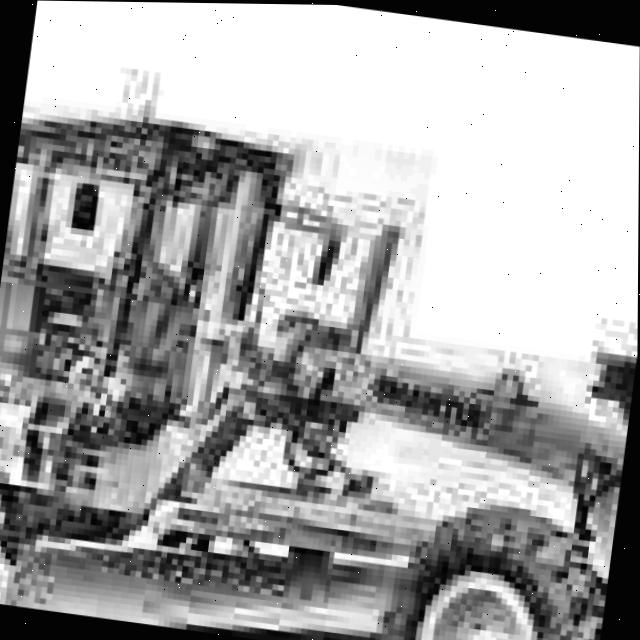buldozerpayloadergrader: (0, 59, 640, 640)
